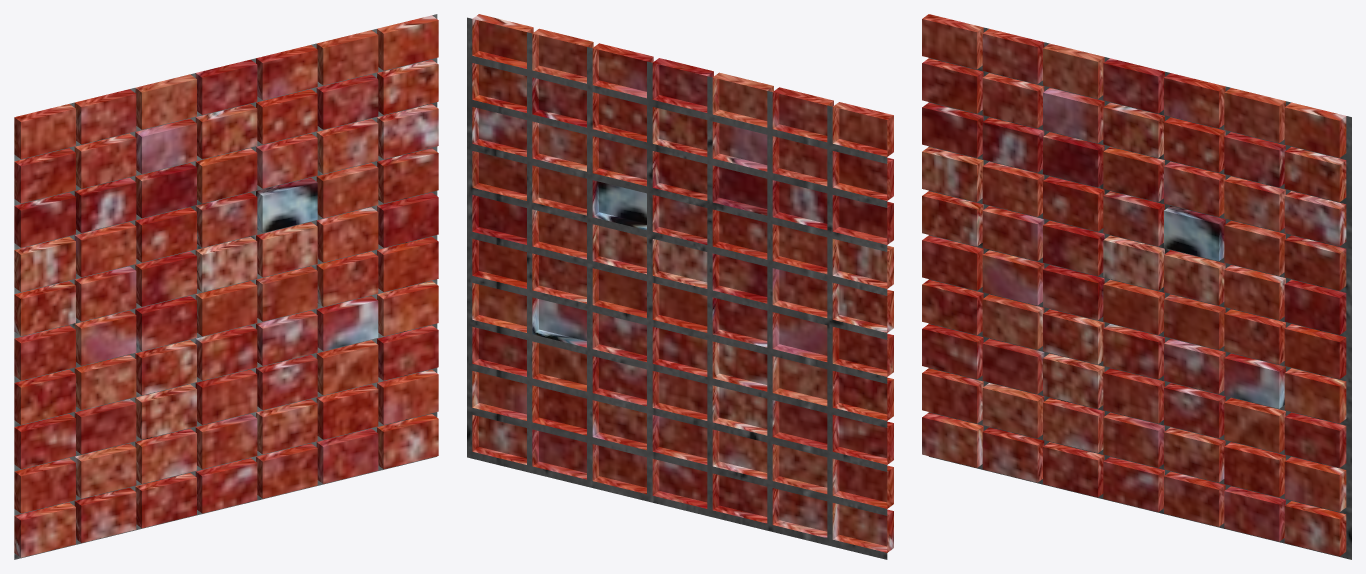
File: Pared_020.fbx
The picture shows the model from 3 angles, left to right: view 1: azimuth 30°, elevation 25°; view 2: azimuth 150°, elevation 25°; view 3: azimuth 330°, elevation 25°; orthographic projection.
Visible parts, largest first — view 1: Plane; view 2: Plane; view 3: Plane.
Boxes of the visible parts, x1,y1,x2,y2 form: Plane: [14, 14, 438, 559]; Plane: [467, 14, 893, 559]; Plane: [922, 14, 1351, 559].
Bounding box in the file's own units: 600 × 600 × 16.4.
